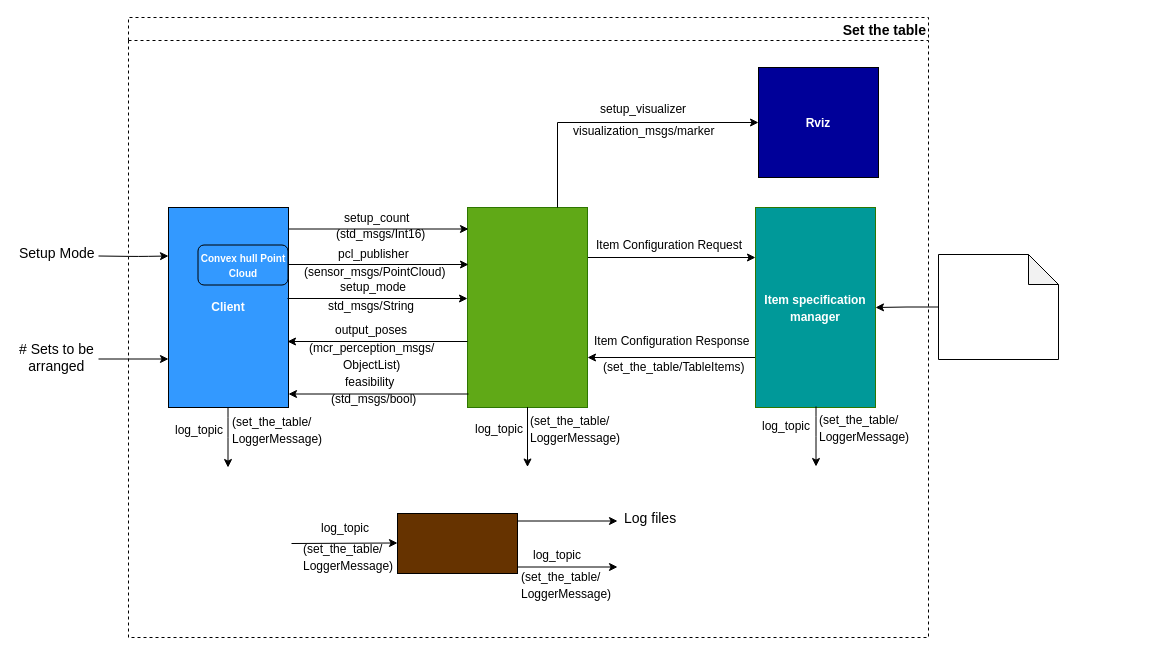
Image size: 1175x665. Some labels were removed from this diagram. Each missing label, with the centre of its shape:
Log manager: the point at 457,543
setup_config.yaml: the point at 998,307
Table setup: the point at 527,307
